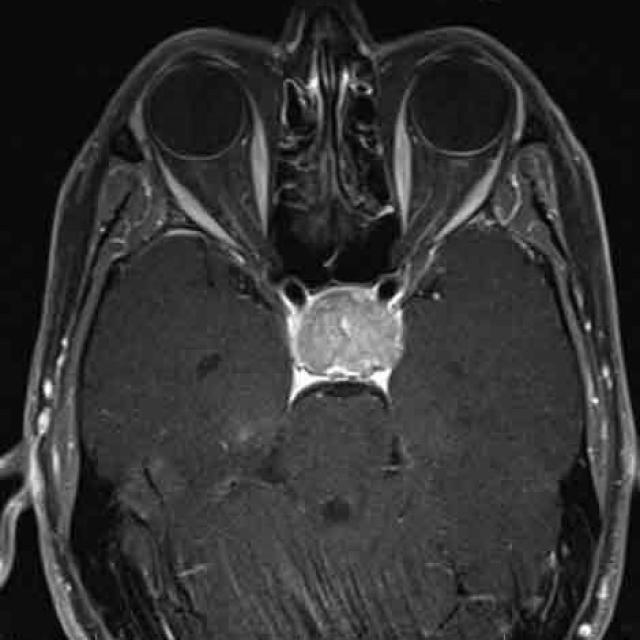brain_tumor: (295, 293, 407, 396)
